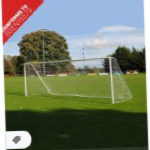goals: (20, 56, 134, 104)
